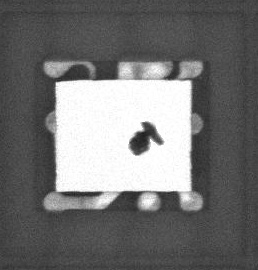DIE_INK: (122, 127, 157, 163)
